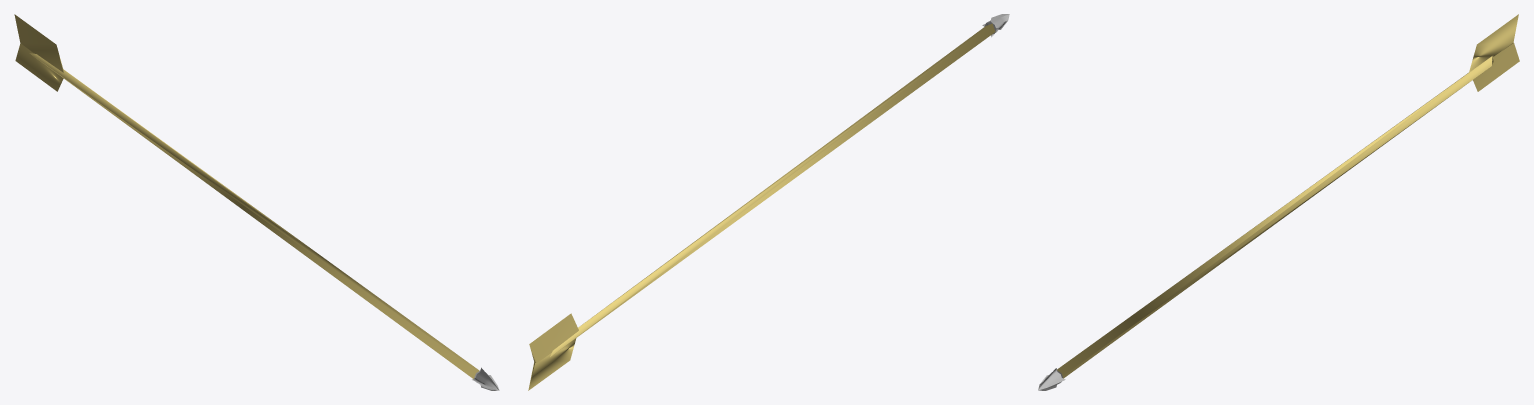
Rendered from Arrow.fbx.
3 renders of one model, left to right at view 1: azimuth 30°, elevation 25°; view 2: azimuth 150°, elevation 25°; view 3: azimuth 330°, elevation 25°, orthographic.
Visible parts, largest first — view 1: polySurface2; view 2: polySurface2; view 3: polySurface2.
Part boxes in pixels (left/top/right/bottom): polySurface2: left=14, top=14, right=499, bottom=390; polySurface2: left=528, top=14, right=1009, bottom=390; polySurface2: left=1038, top=14, right=1519, bottom=390.
Size of the model in its own units: 0.1565 by 0.3734 by 6.88.
